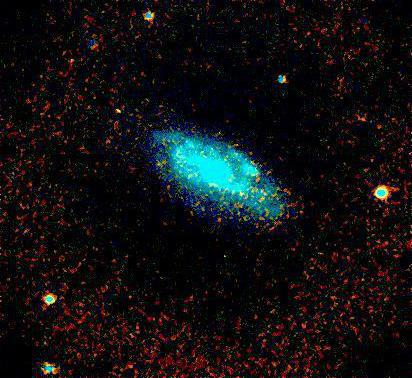star: (102, 96, 132, 126)
